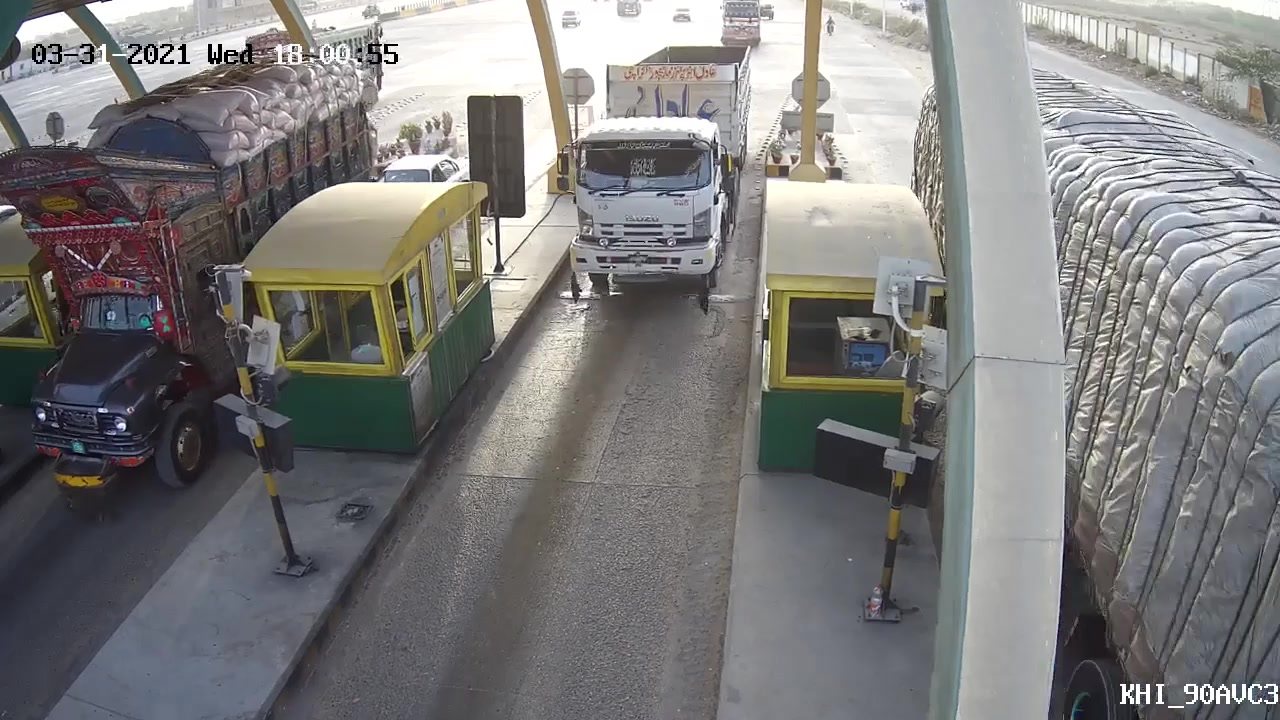F6: (541, 39, 767, 317)
